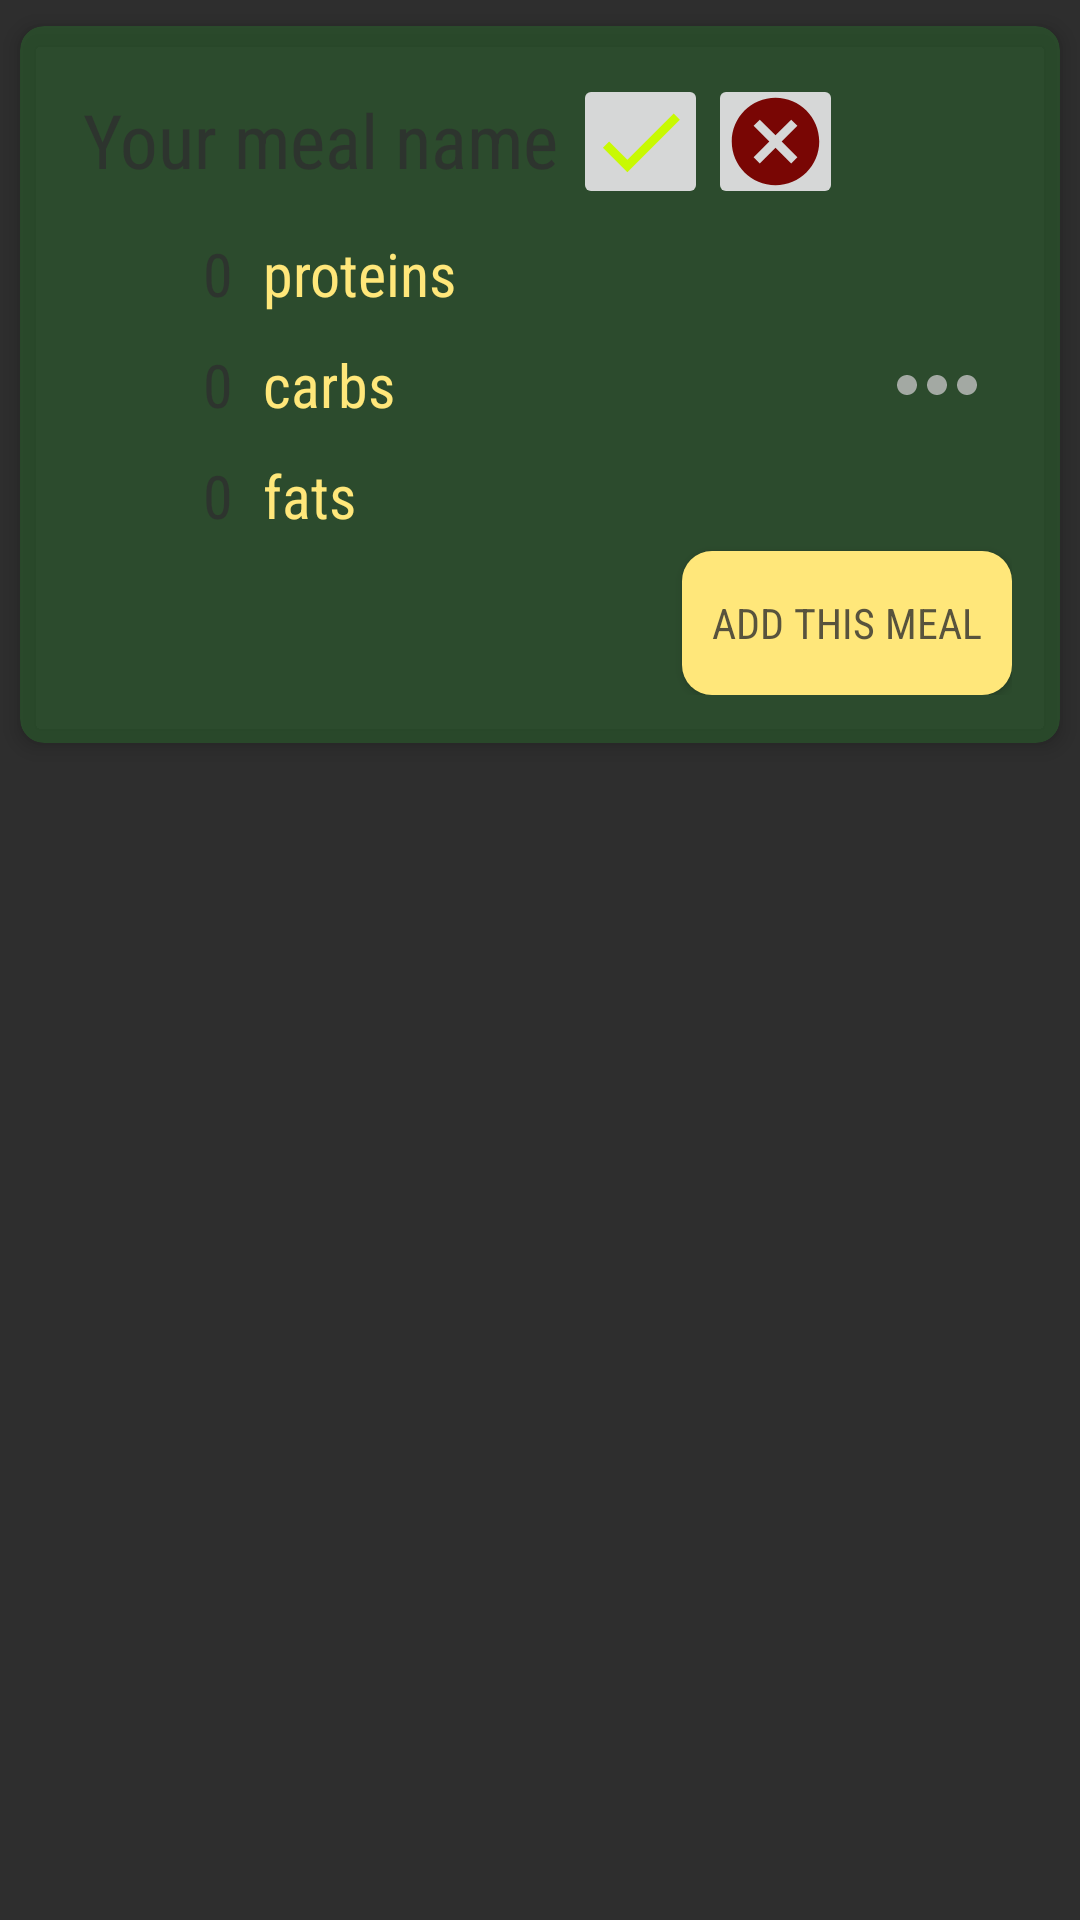

Point at icon controls on the screen. Image size 1080×1920, points as (x=x, y=y).
cancel: (x=775, y=141)
check: (x=640, y=141)
more options: (x=937, y=385)
